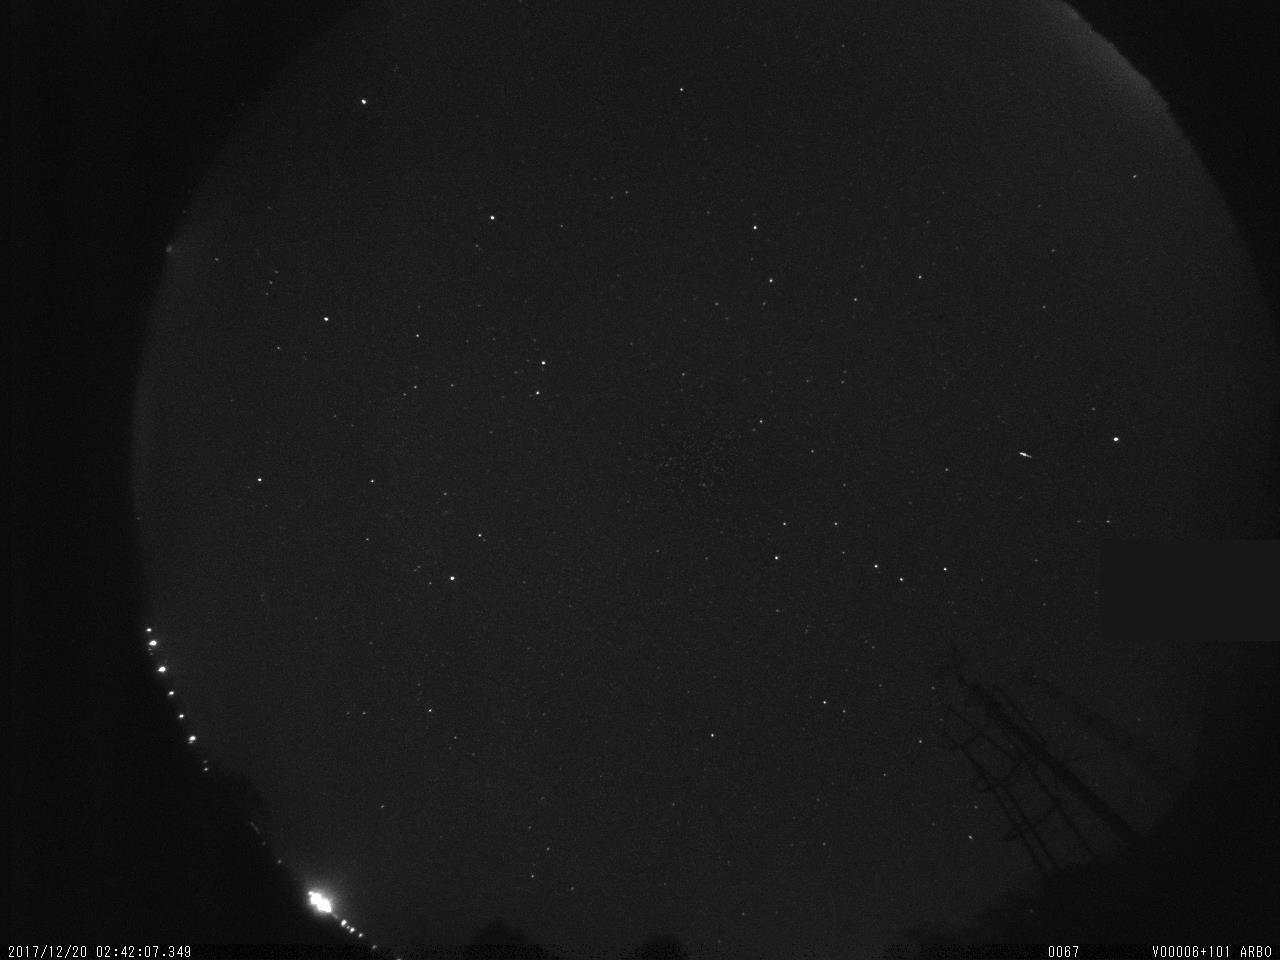meteor: (1018, 451, 1034, 459)
